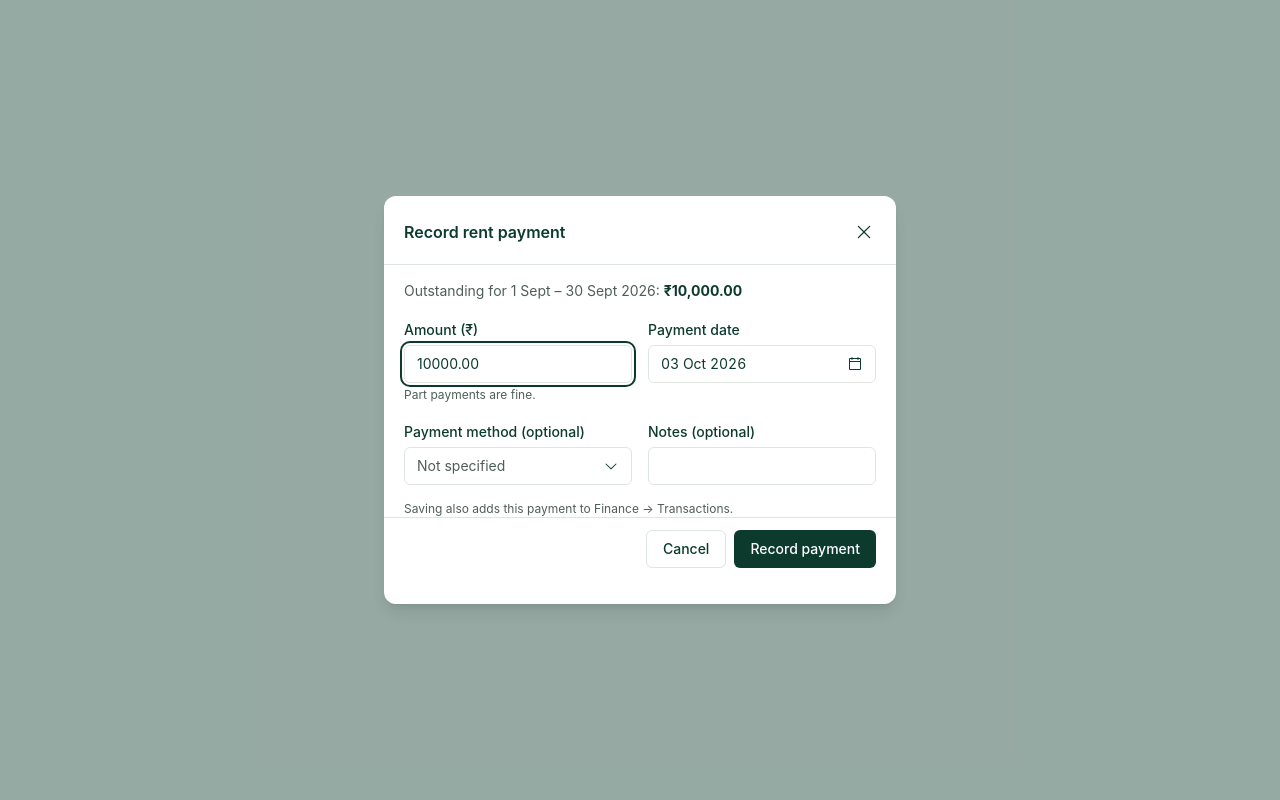
Test: RentPaymentDialog › shows a retryable error when the network fails
Click the button "Record payment" at (805, 549), box left=734, top=530, right=876, bottom=568
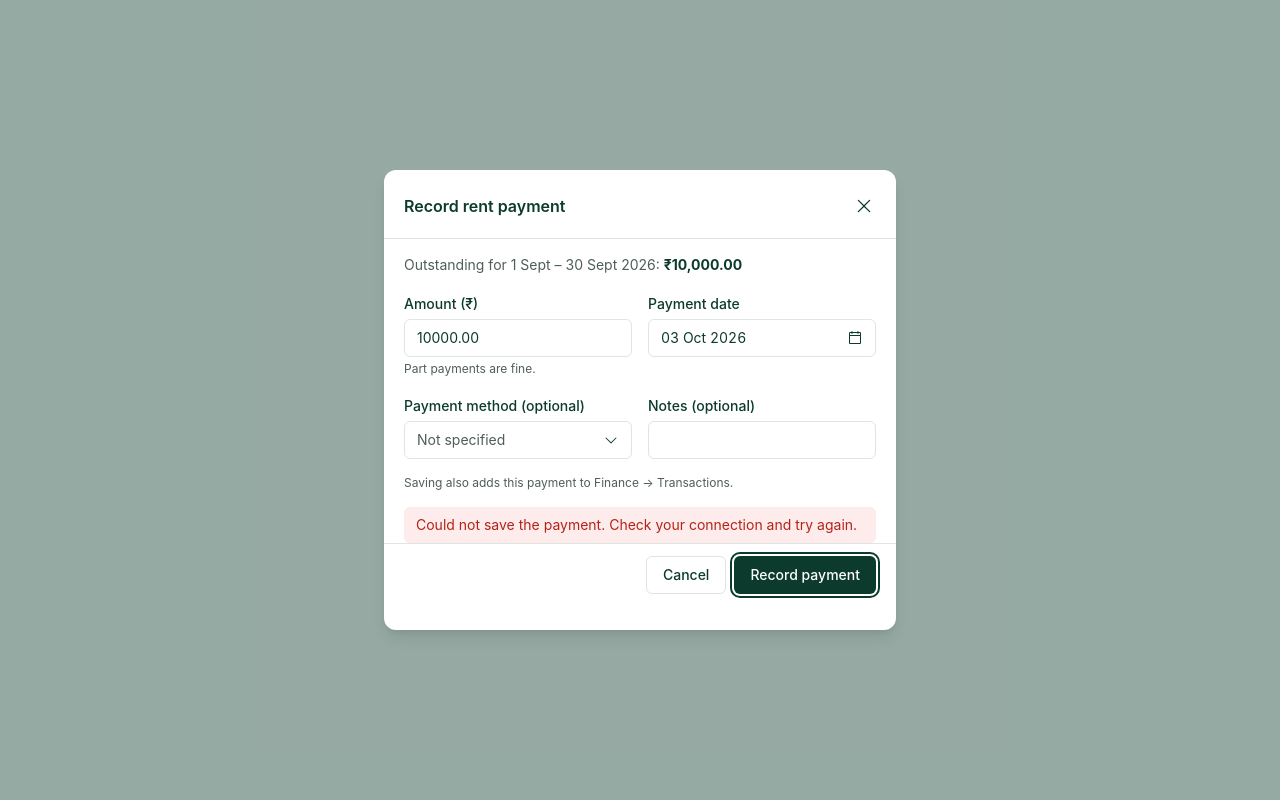
Now the text "Could not save the payment. Check your connection and try again." is shown, box left=404, top=507, right=876, bottom=543
